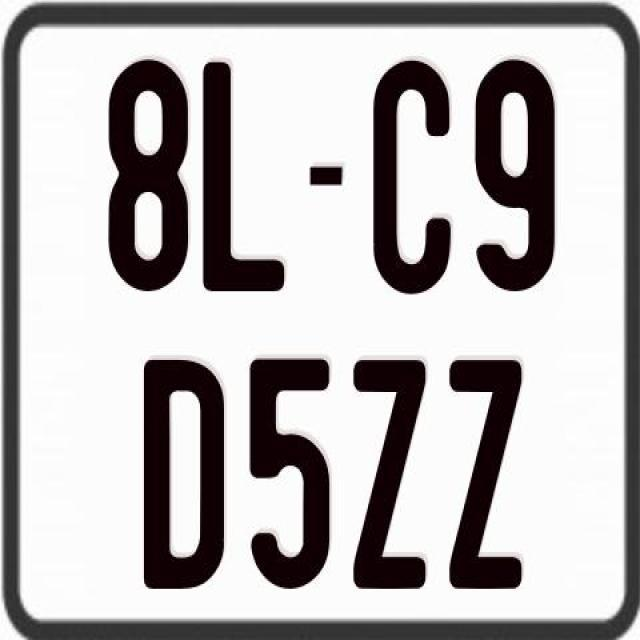5: (246, 355, 334, 587)
8: (106, 56, 190, 290)
9: (470, 59, 554, 296)
C: (373, 58, 451, 299)
D: (142, 360, 226, 595)
L: (202, 59, 290, 290)
Z: (352, 357, 427, 592), (448, 357, 523, 587)
